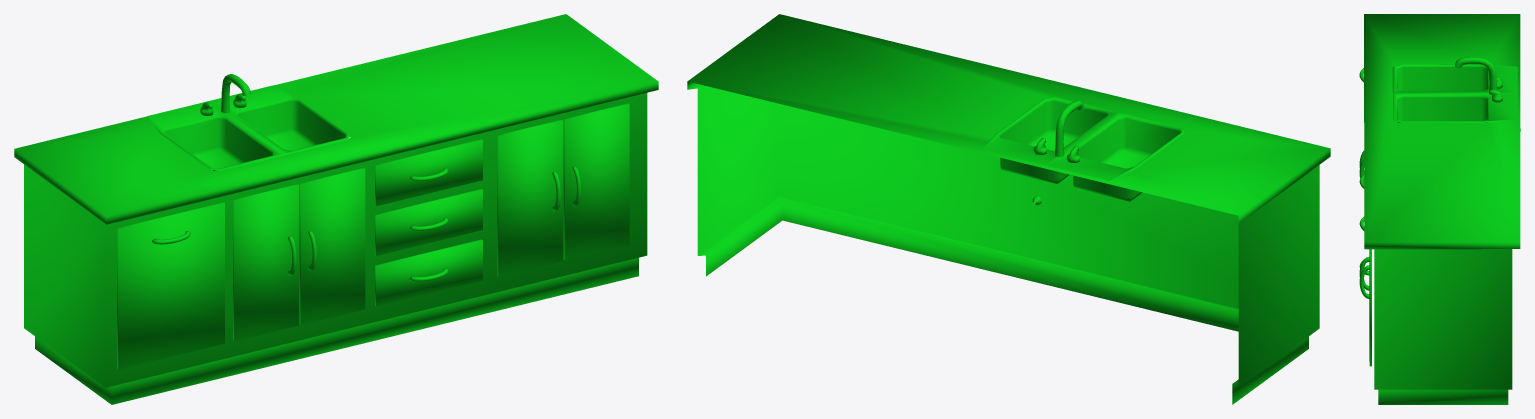
The model's file is dishtable.fbx.
3 views of the same model, side by side, from view 1: azimuth 30°, elevation 25°; view 2: azimuth 150°, elevation 25°; view 3: azimuth 270°, elevation 25° (orthographic). The views are drawn at different scales.
Visible parts, largest first — view 1: Items.008; view 2: Items.008; view 3: Items.008.
Part boxes in pixels (x1,y1,x2,y2): Items.008: (14, 14, 658, 404); Items.008: (687, 14, 1330, 404); Items.008: (1359, 14, 1520, 404).
Bounding box in the file's own units: 380 × 159 × 113.
